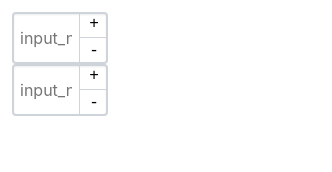
Test: test InputNumber component › step setting is valid
Step 1. Type "0" into the number field with placeholder "input_number_2" → (60, 90), box top-left (12, 64), bottom-right (108, 116)
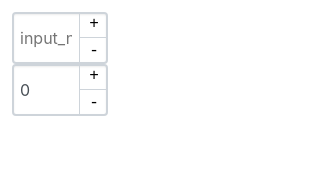
Step 2. Click the 2nd button "+" → (94, 77), box top-left (79, 64), bottom-right (108, 90)
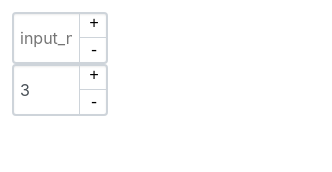
Now the number field with placeholder "input_number_2" holds "3", box top-left (12, 64), bottom-right (108, 116)
